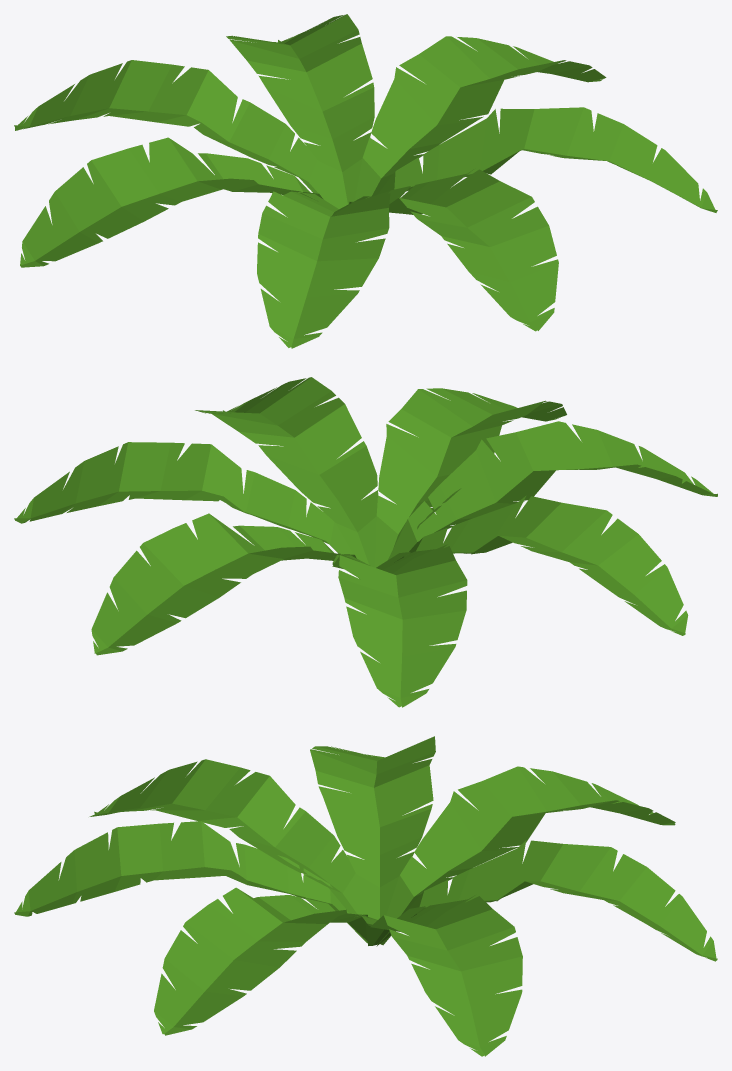
The model's file is FernPlant.fbx.
3 views of the same model, one above another, from view 1: azimuth 30°, elevation 25°; view 2: azimuth 150°, elevation 25°; view 3: azimuth 270°, elevation 25° (orthographic). The views are drawn at different scales.
Parts seen in each view (by area): view 1: Plane; view 2: Plane; view 3: Plane.
Part boxes in pixels (<box>): Plane: <box>14,14,717,348</box>; Plane: <box>14,377,717,707</box>; Plane: <box>14,736,717,1056</box>.
Bounding box in the file's own units: 1120 × 189 × 1116.
